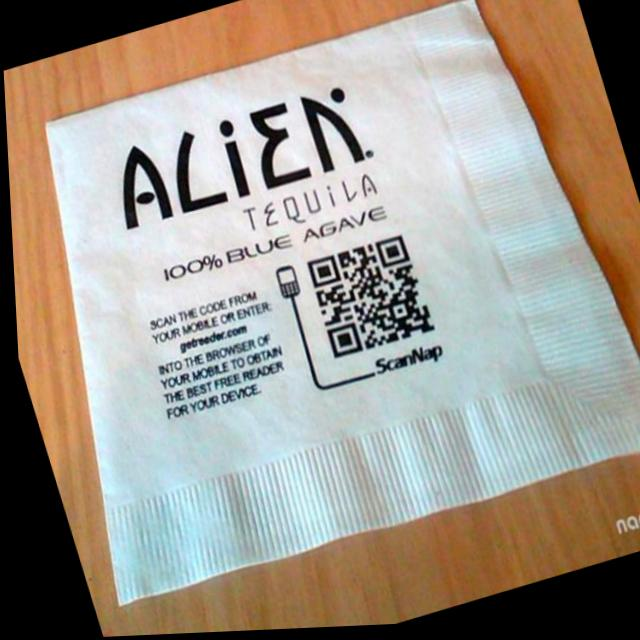qrcode: (302, 236, 432, 362)
